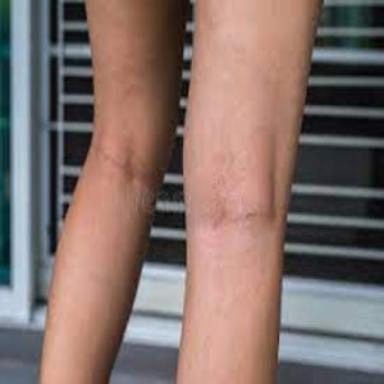normal skin: (177, 0, 319, 384), (41, 0, 181, 384)
